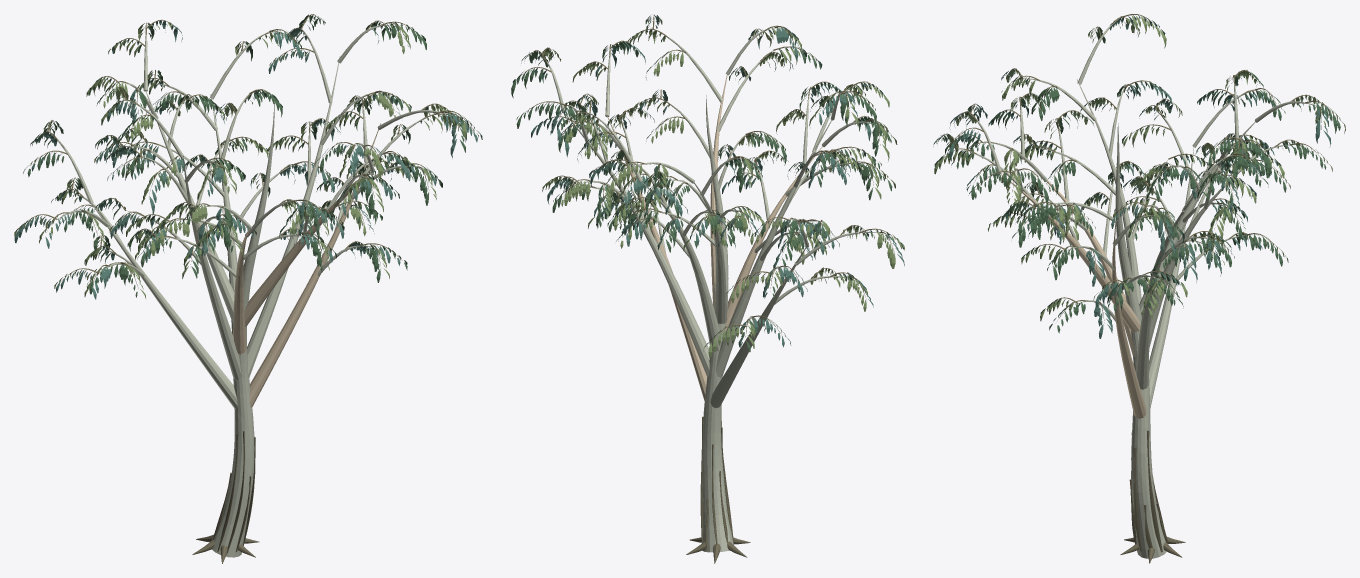
The model's file is eucalyptus-lod40000.glb.
3 renders of one model, left to right at view 1: azimuth 30°, elevation 25°; view 2: azimuth 150°, elevation 25°; view 3: azimuth 270°, elevation 25°, orthographic. The views are drawn at different scales.
Parts seen in each view (by area): view 1: eucalyptus-lod40000; view 2: eucalyptus-lod40000; view 3: eucalyptus-lod40000.
Boxes of the visible parts, x1,y1,x2,y2 form: eucalyptus-lod40000: (14, 14, 482, 563); eucalyptus-lod40000: (511, 14, 904, 563); eucalyptus-lod40000: (933, 14, 1345, 563).
Bounding box in the file's own units: 12.25 × 14.43 × 11.13.
